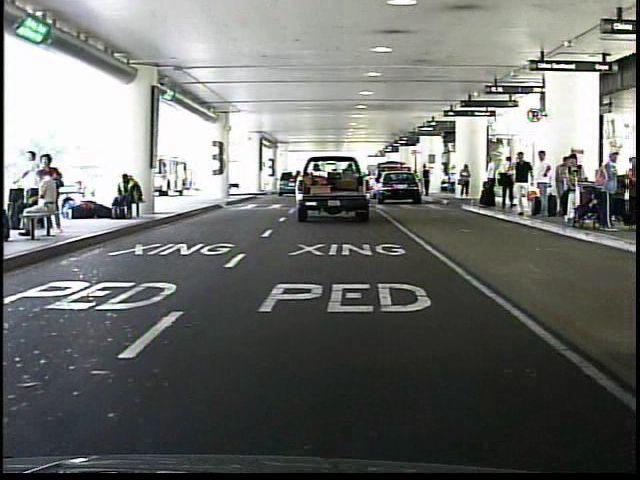person: (533, 148, 557, 223), (508, 150, 532, 224), (479, 152, 501, 214), (458, 162, 474, 203), (421, 163, 433, 200), (415, 168, 424, 200)
